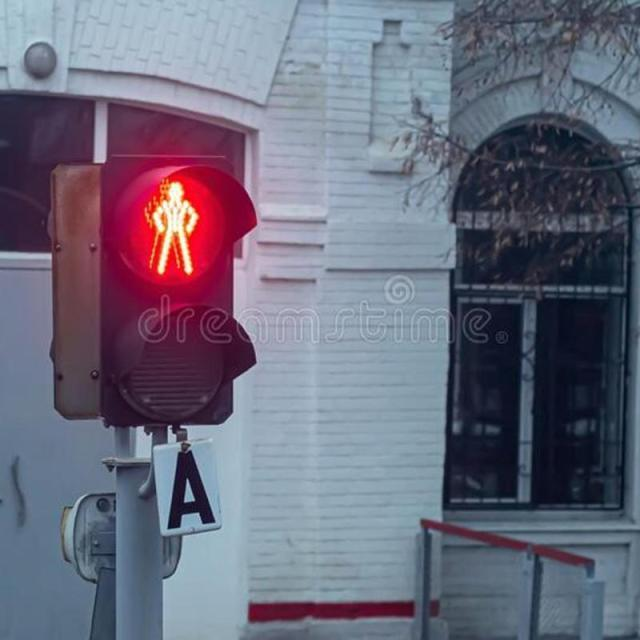red-crossing: (119, 168, 228, 286)
